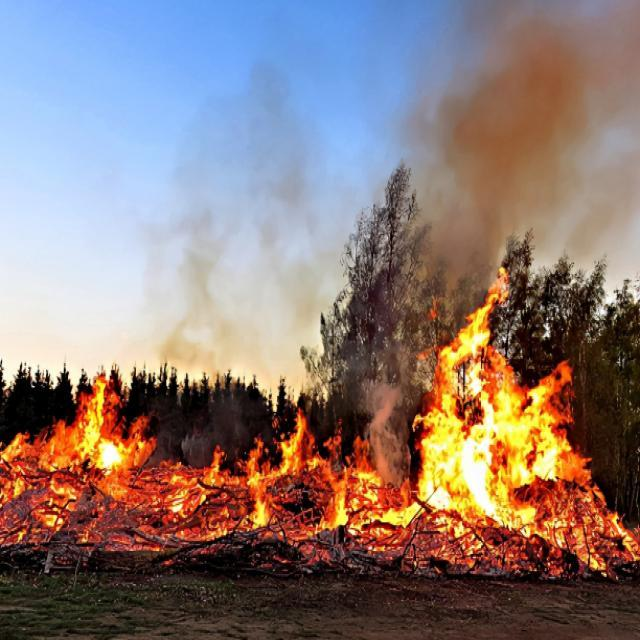Fire: (400, 277, 586, 533), (0, 384, 147, 494), (248, 406, 348, 530)
Smoke: (387, 0, 640, 272), (364, 377, 401, 489)
